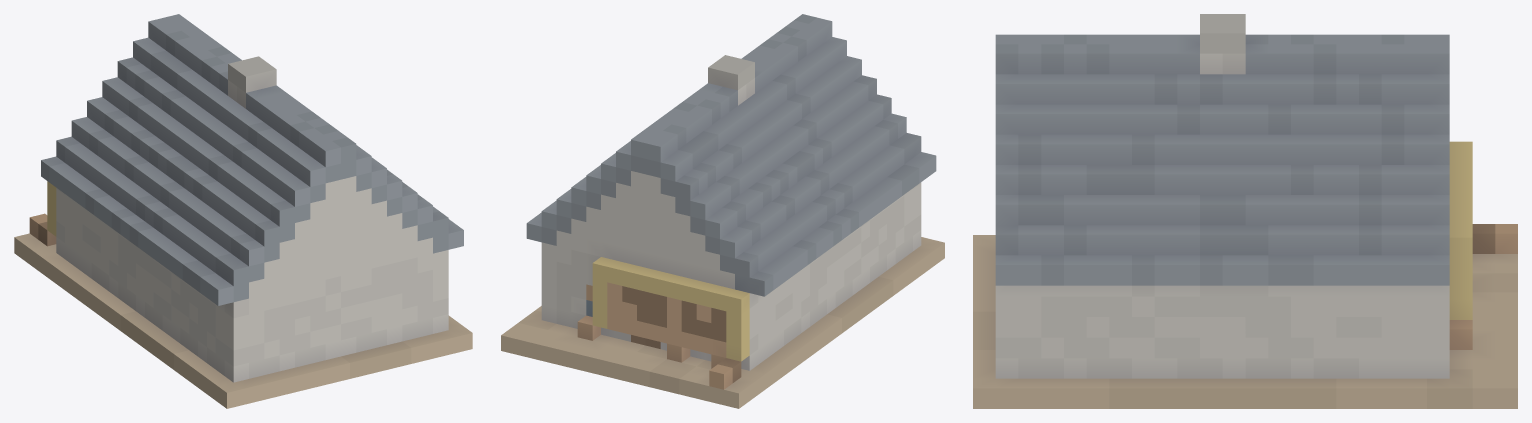
File: glass_smelter.lite.glb
3 renders of one model, left to right at view 1: azimuth 30°, elevation 25°; view 2: azimuth 150°, elevation 25°; view 3: azimuth 270°, elevation 25°, orthographic. The views are drawn at different scales.
Visible parts, largest first — view 1: glass_smelter; view 2: glass_smelter; view 3: glass_smelter.
Part boxes in pixels (x1,y1,x2,y2): glass_smelter: (14,14,472,408); glass_smelter: (501,14,944,408); glass_smelter: (973,14,1517,408).
Bounding box in the file's own units: 4 × 3.75 × 6.
